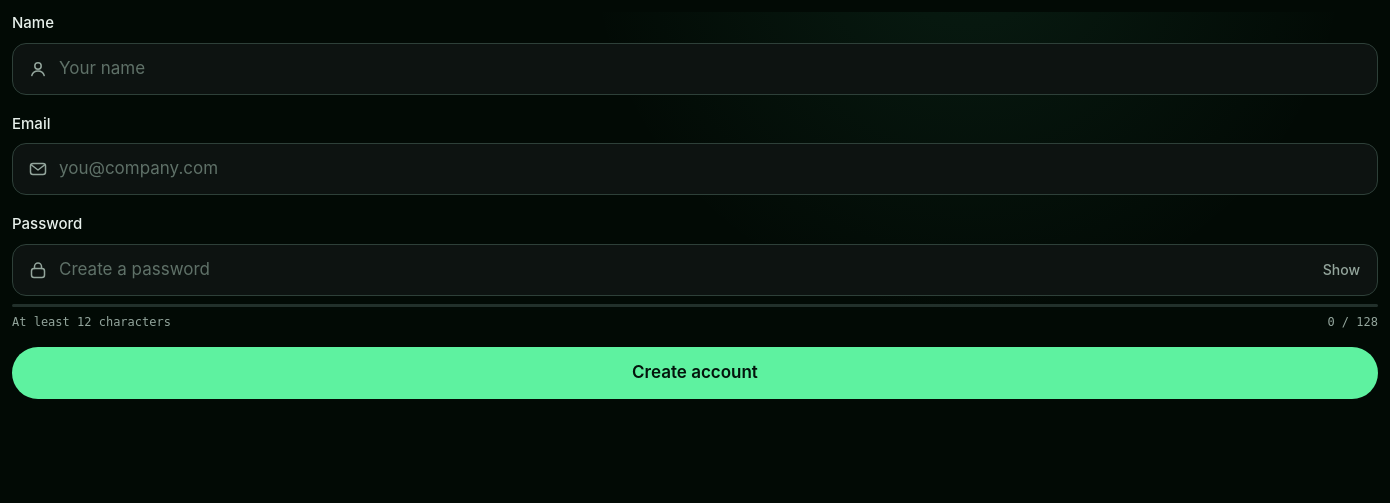
it: RegisterForm › rejects a short name, bad email and short password without submitting
The width and height of the screenshot is (1390, 503).
Type "A" into the field labelled "Name" at (695, 68), box 12,42 -> 1378,94
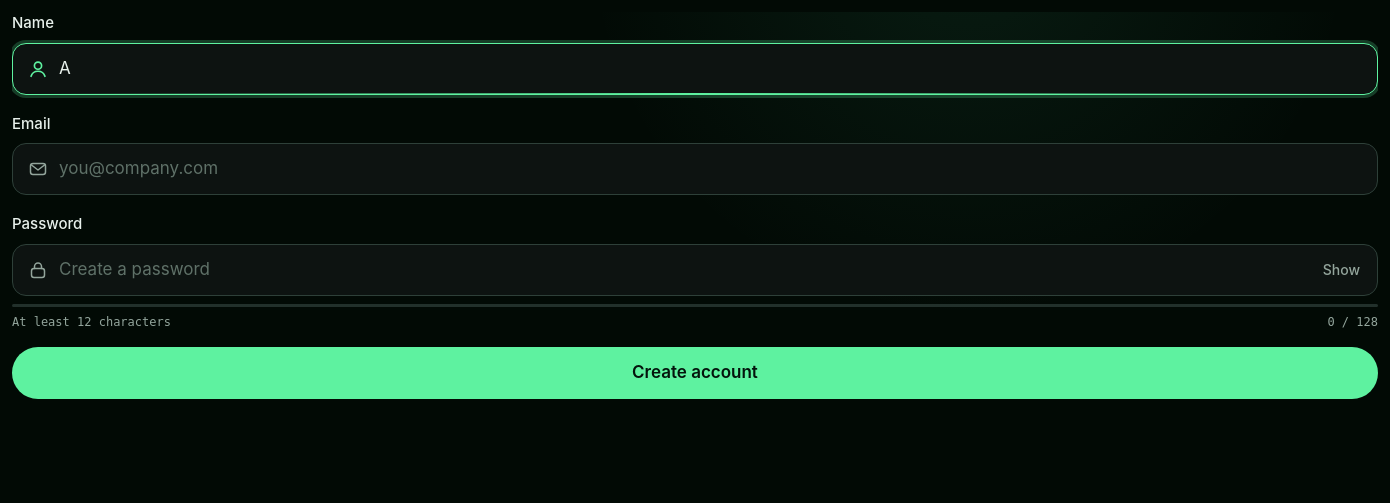
Type "person" into the field labelled "Email" at (695, 169), box 12,143 -> 1378,195
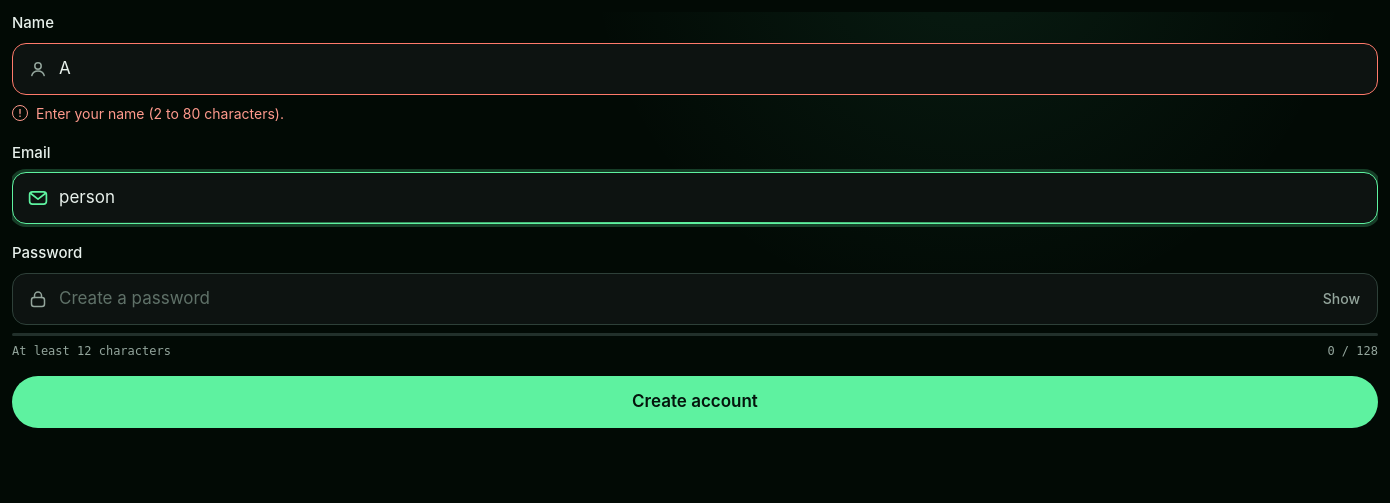
Type "short-pass" into the password field labelled "Password" at (695, 298), box 12,272 -> 1378,324
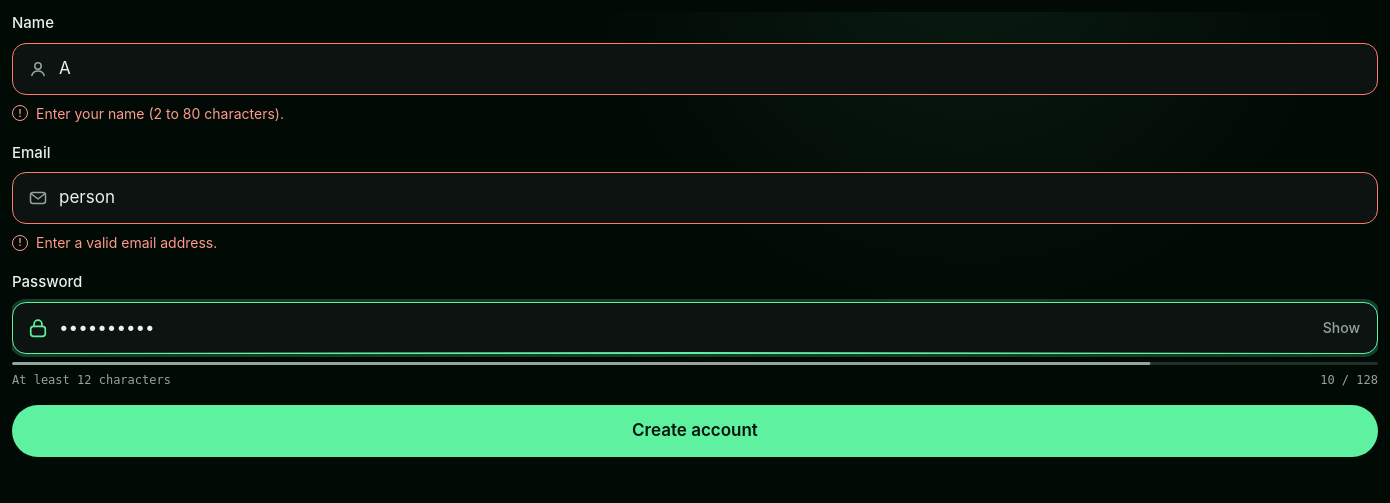
Click the button "Create account" at (695, 430), box 12,404 -> 1378,456
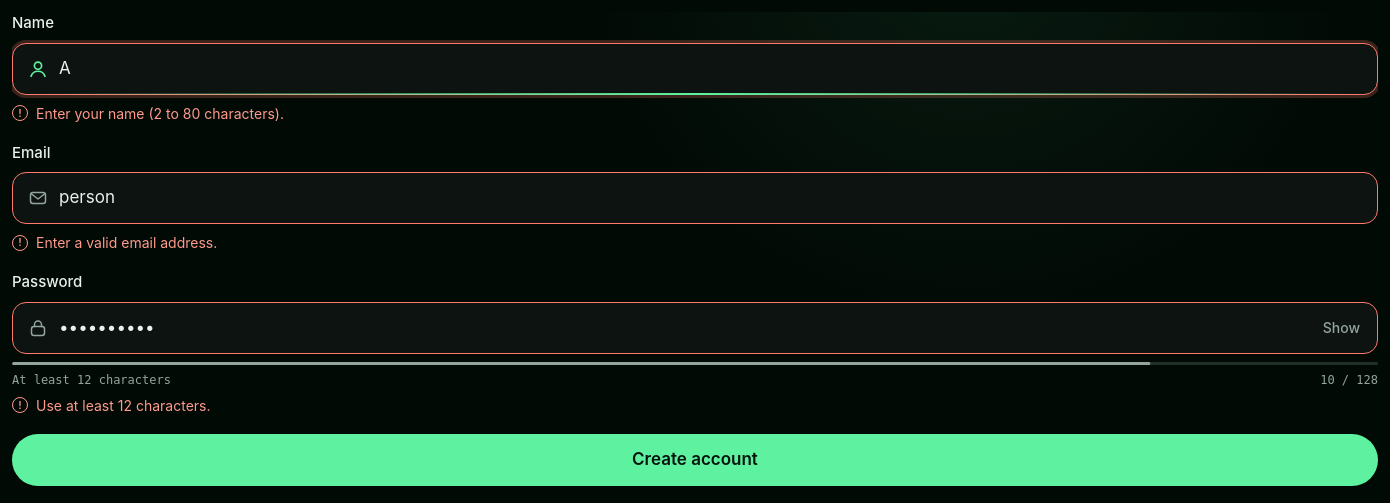
Expected: the text "Enter your name (2 to 80 characters)." is shown, 36,104 -> 284,122
Expected: the text "Enter a valid email address." is shown, 36,234 -> 217,251
Expected: the text "Use at least 12 characters." is shown, 36,396 -> 210,414
